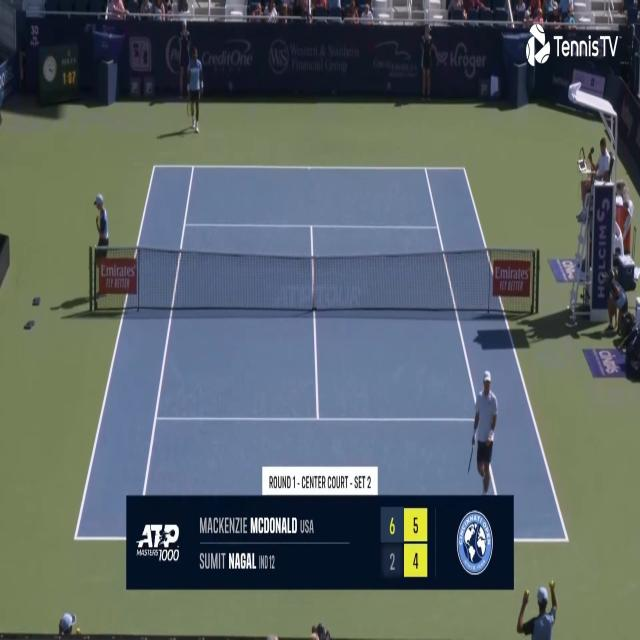tennis-player: (468, 368, 500, 497), (185, 45, 206, 135)
